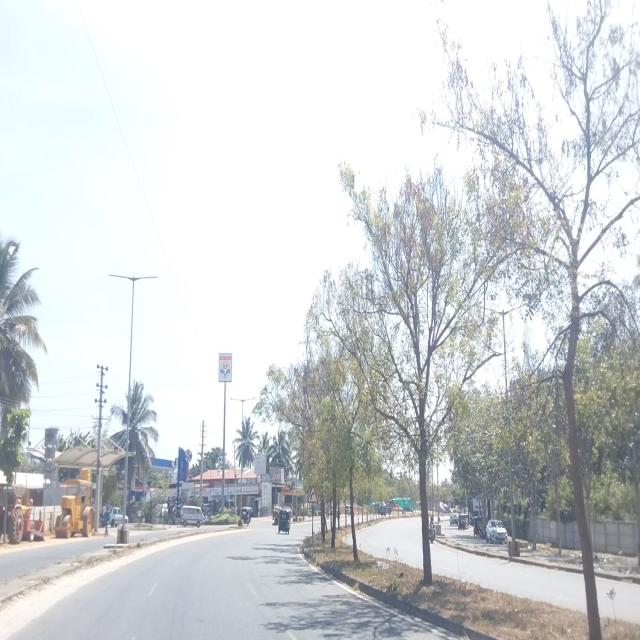bien_cam: (307, 485, 318, 504)
